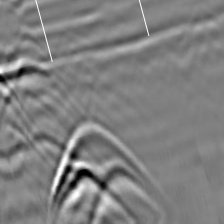Utility: (50, 118, 157, 224), (0, 55, 55, 100)
